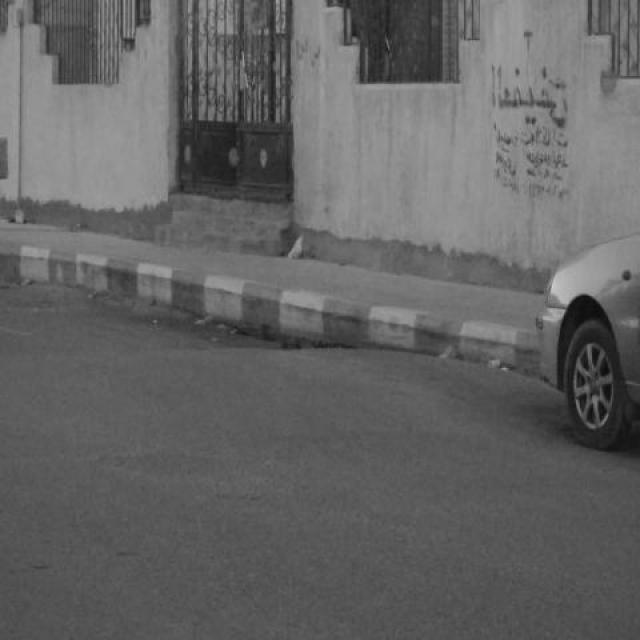Unmarked Bump: (1, 340, 538, 470)
